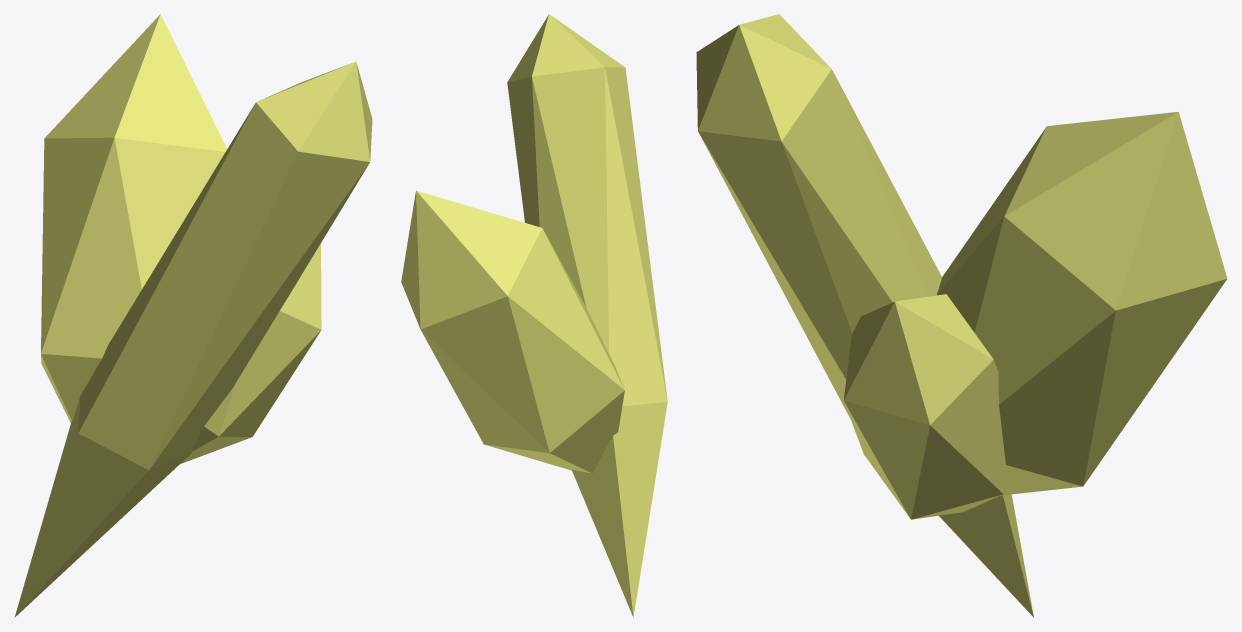
File: Sanctuary Artefacts 01.fbx
The picture shows the model from 3 angles, left to right: view 1: azimuth 30°, elevation 25°; view 2: azimuth 150°, elevation 25°; view 3: azimuth 270°, elevation 25°; orthographic projection. The views are drawn at different scales.
Parts seen in each view (by area): view 1: Artefact01; view 2: Artefact01; view 3: Artefact01.
Boxes of the visible parts, x1,y1,x2,y2 form: Artefact01: (14,14,372,617); Artefact01: (401,14,667,617); Artefact01: (696,14,1227,617).
Bounding box in the file's own units: 44.39 × 96.67 × 64.03.
